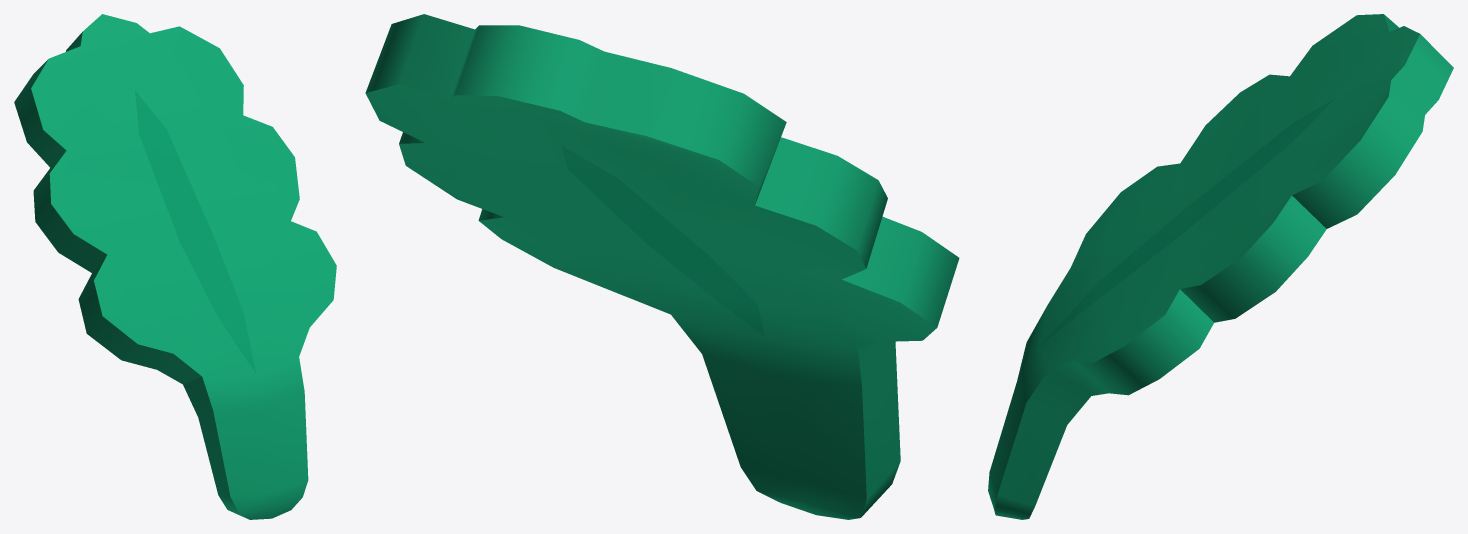
Rendered from CarrotLeaf1.fbx.
3 views of the same model, side by side, from view 1: azimuth 30°, elevation 25°; view 2: azimuth 150°, elevation 25°; view 3: azimuth 270°, elevation 25° (orthographic). The views are drawn at different scales.
Parts seen in each view (by area): view 1: CarrotPlant2A_Leaf1; view 2: CarrotPlant2A_Leaf1; view 3: CarrotPlant2A_Leaf1.
Boxes of the visible parts, left/top/right/bottom form: CarrotPlant2A_Leaf1: left=14, top=14, right=336, bottom=519; CarrotPlant2A_Leaf1: left=365, top=14, right=959, bottom=519; CarrotPlant2A_Leaf1: left=988, top=14, right=1453, bottom=519.
Size of the model in its own units: 9.75 by 14.51 by 12.79.
